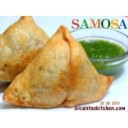samosa: (6, 25, 112, 105), (1, 16, 52, 84)
